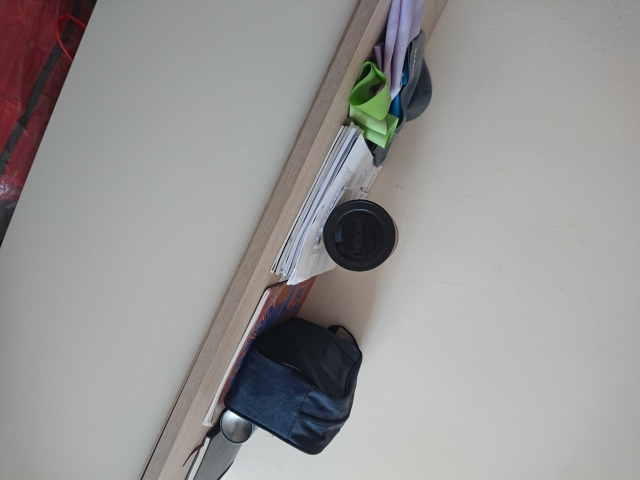Nescafe Classic 225g: (317, 195, 404, 277)
